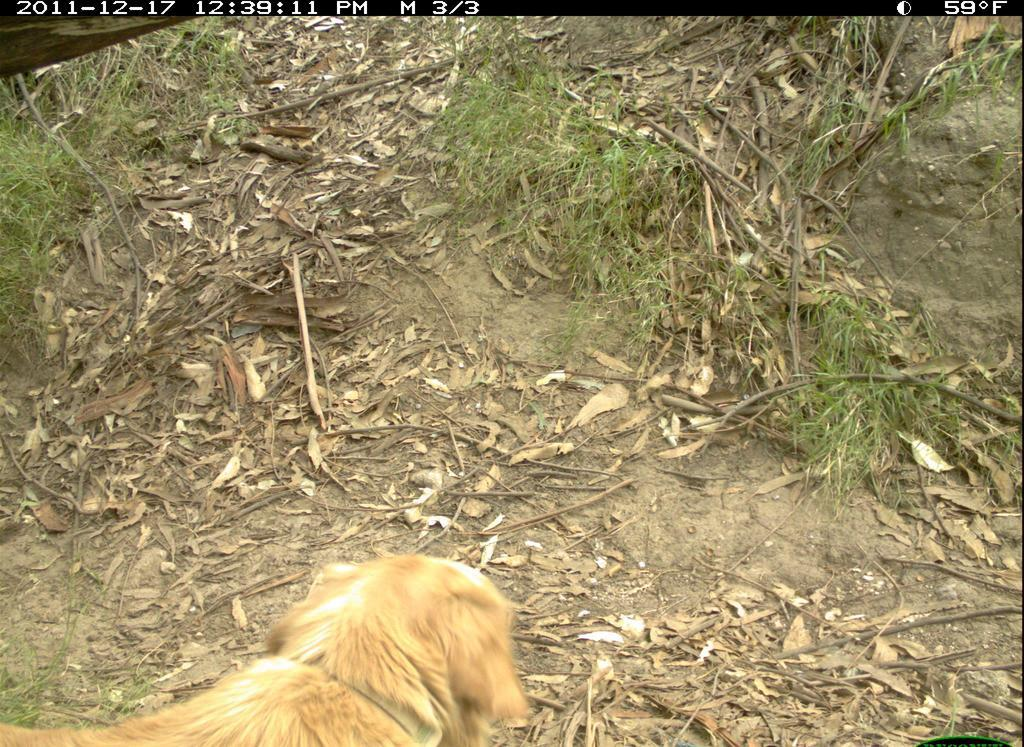dog: (2, 542, 539, 747)
